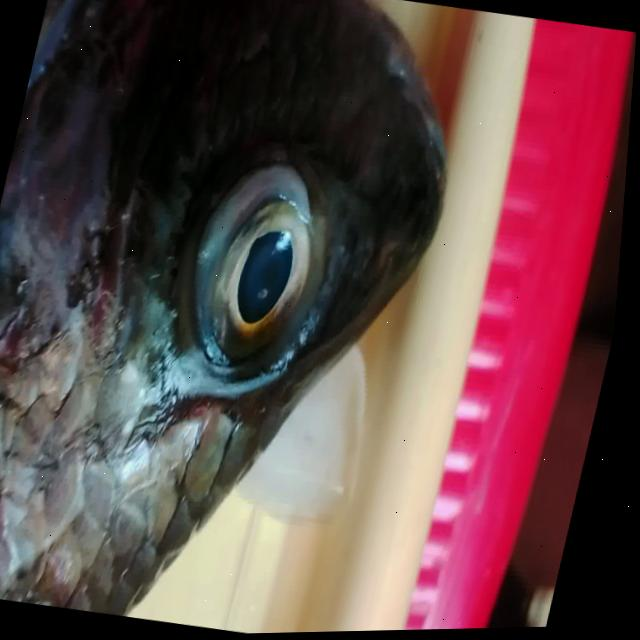Fresh: (126, 130, 360, 474)
